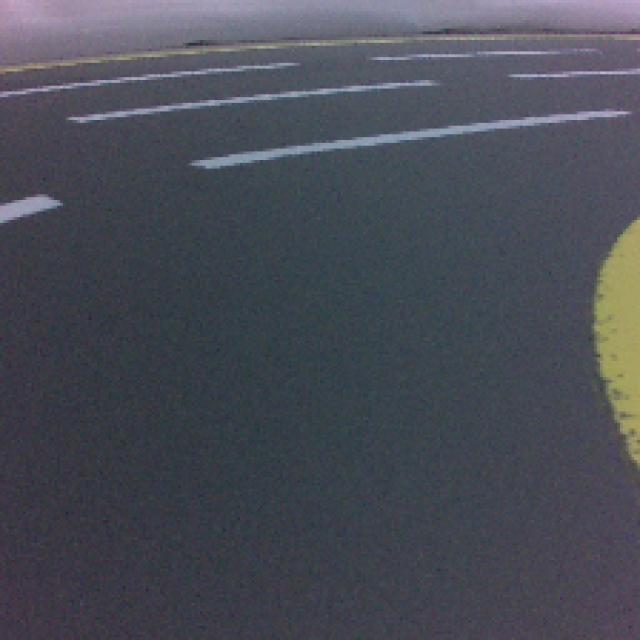Road: (0, 448, 640, 634)
